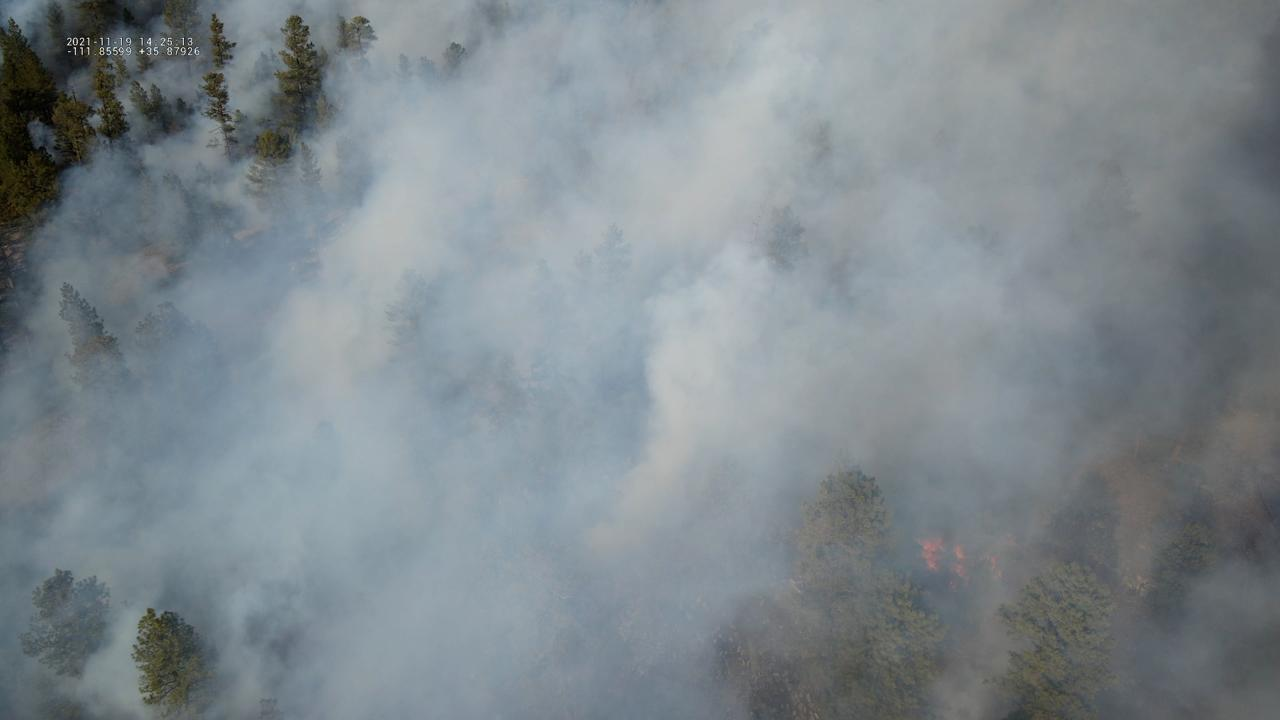fire: (910, 537, 943, 577), (951, 543, 966, 581), (987, 556, 1004, 585)
smoke: (0, 0, 1280, 720)
